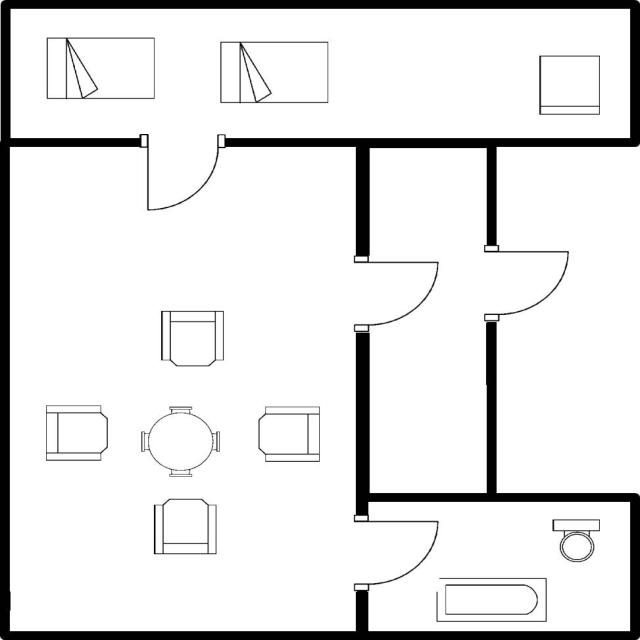armchair: (148, 493, 222, 558), (154, 307, 228, 371), (253, 402, 324, 466), (41, 400, 111, 464)
bed: (40, 30, 159, 104), (215, 37, 332, 107)
large_sink: (544, 516, 604, 564)
round_table: (136, 400, 223, 480)
small_sofa: (532, 51, 603, 119)
tub: (432, 572, 550, 626)
